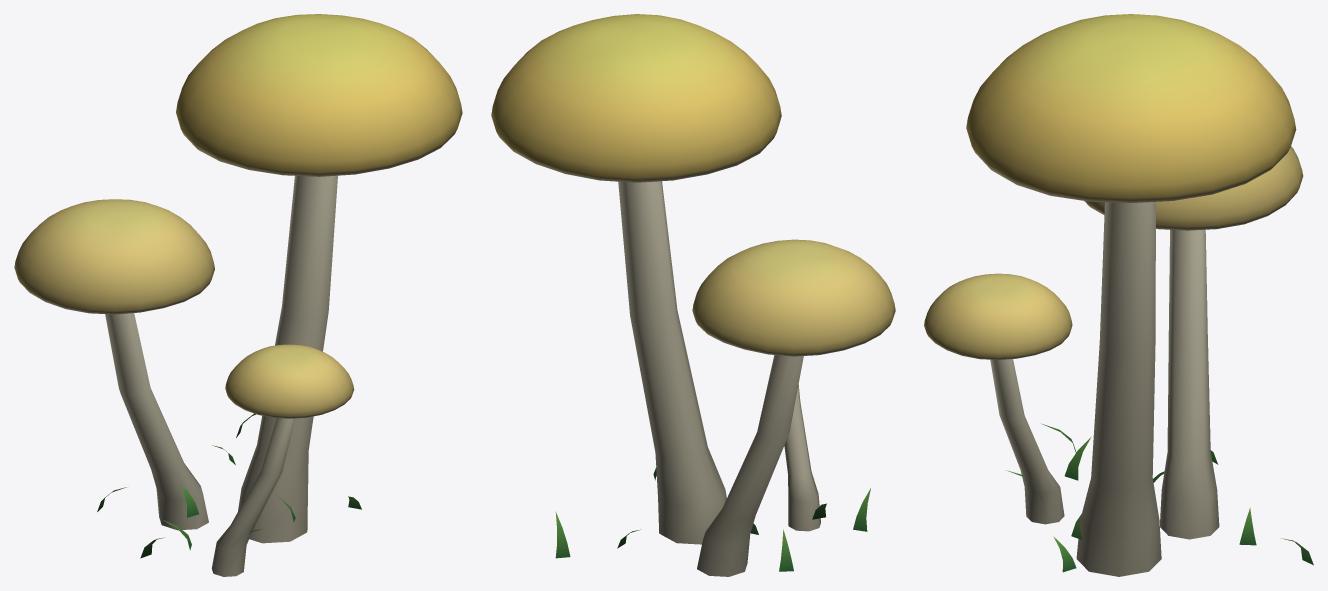
Rendered from mush_gold.glb.
3 renders of one model, left to right at view 1: azimuth 30°, elevation 25°; view 2: azimuth 150°, elevation 25°; view 3: azimuth 270°, elevation 25°, orthographic. The views are drawn at different scales.
Visible parts, largest first — view 1: mush_gold; view 2: mush_gold; view 3: mush_gold.
Part boxes in pixels (x1,y1,x2,y2): mush_gold: (14,14,462,576); mush_gold: (491,14,895,576); mush_gold: (924,14,1313,576).
Size of the model in its own units: 0.6019 by 0.7041 by 0.4515.
